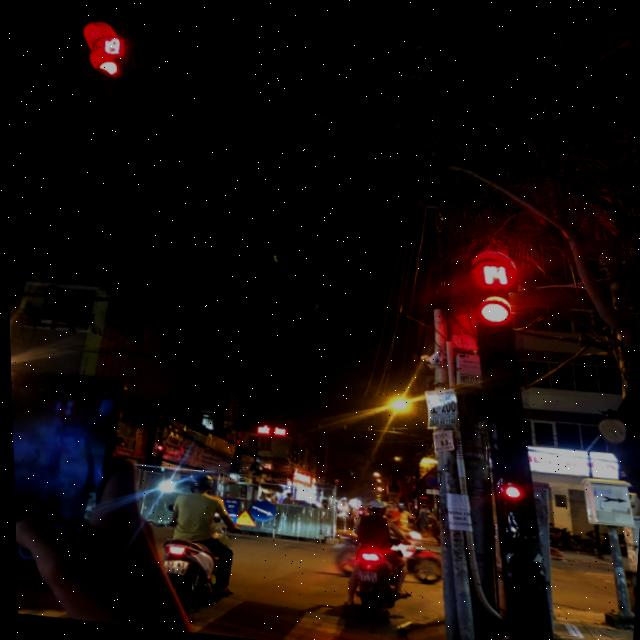Red: (462, 289, 526, 390), (79, 50, 133, 124), (485, 470, 539, 538)
